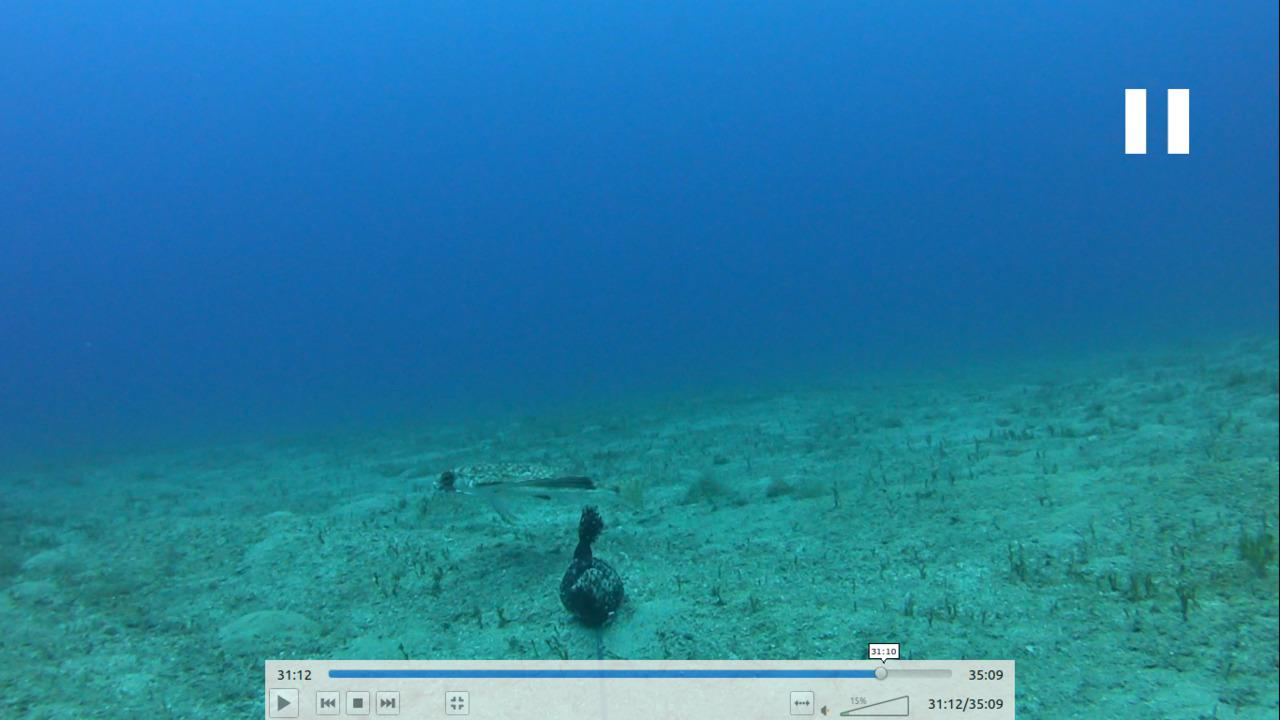dactylopterus: (428, 458, 620, 541)
